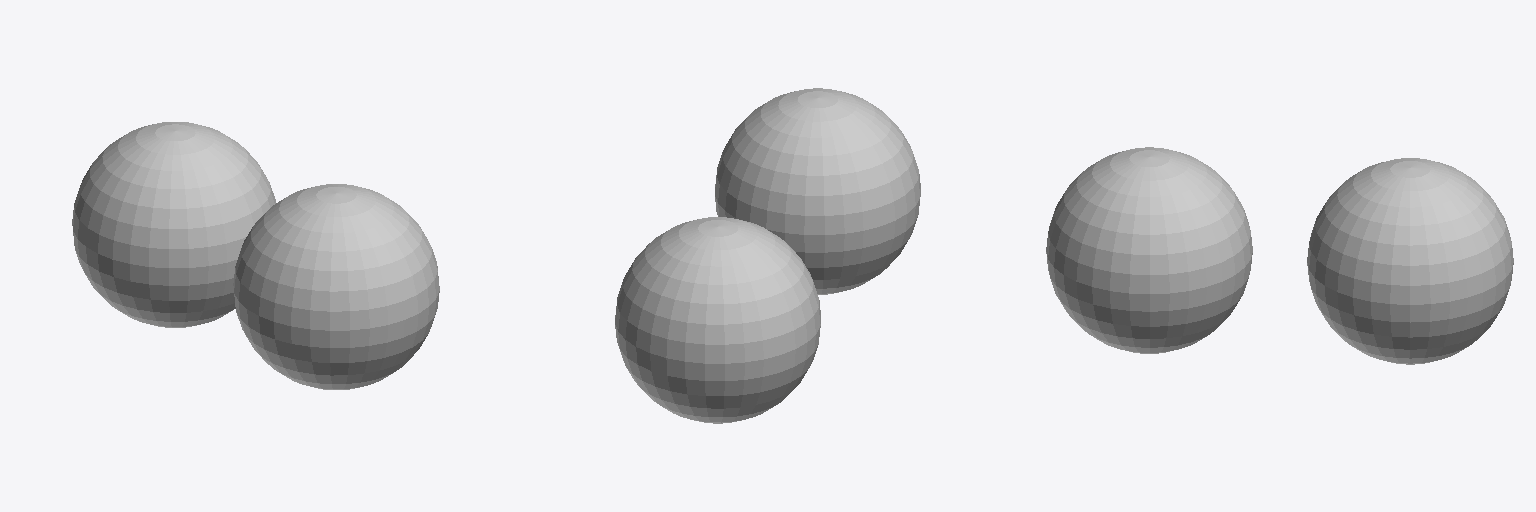
File: norm_test.obj
The picture shows the model from 3 angles: view 1: azimuth 30°, elevation 25°; view 2: azimuth 150°, elevation 25°; view 3: azimuth 270°, elevation 25°; orthographic projection.
Visible parts, largest first — view 1: Sphere, Sphere.001; view 2: Sphere.001, Sphere; view 3: Sphere, Sphere.001.
Part boxes in pixels (x1,y1,x2,y2): Sphere: (233, 184, 439, 389); Sphere.001: (72, 122, 275, 327); Sphere.001: (615, 217, 820, 423); Sphere: (715, 88, 920, 294); Sphere: (1046, 147, 1252, 353); Sphere.001: (1307, 158, 1513, 364).
Bounding box in the file's own units: 7.59 × 7.37 × 14.66.